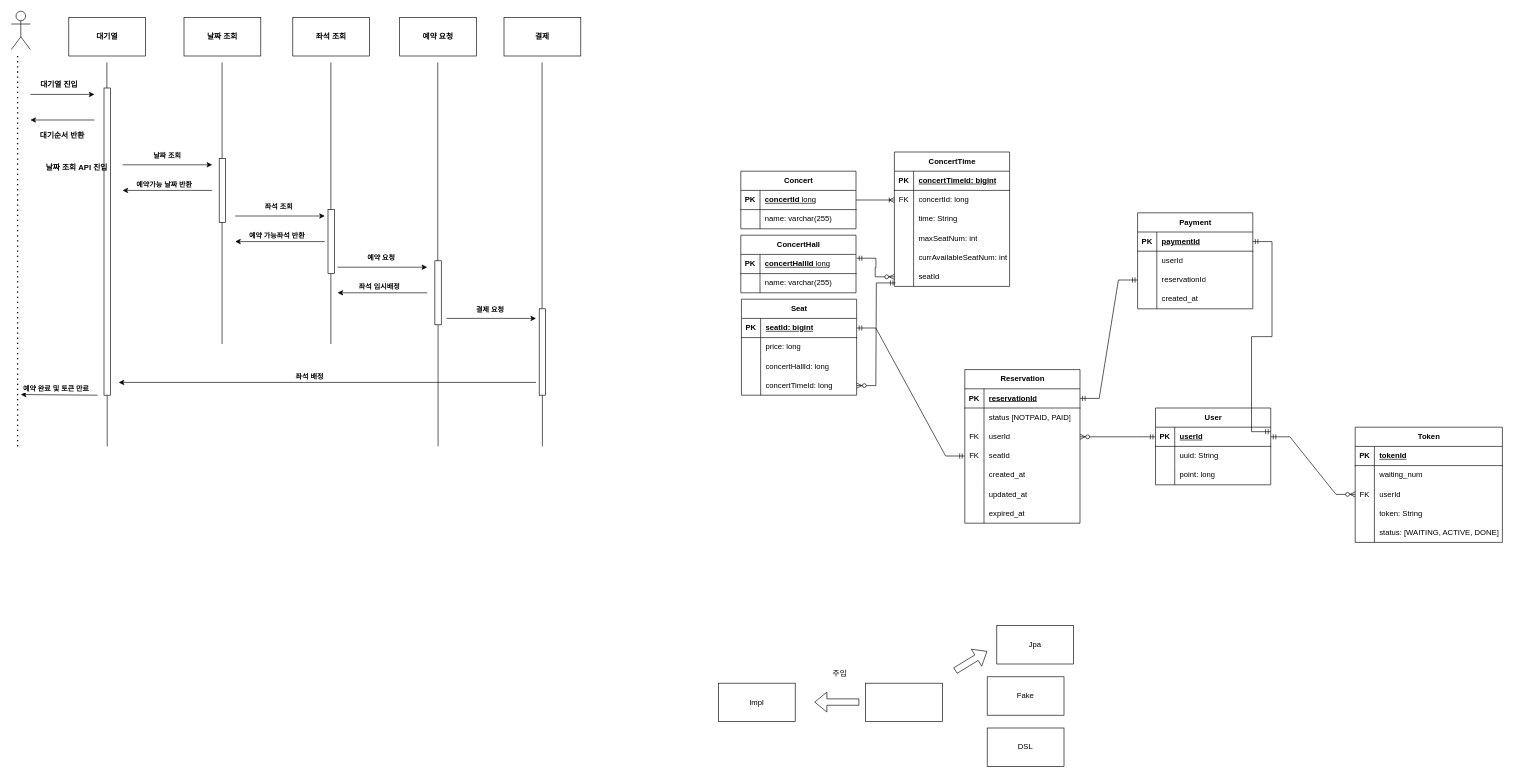
Image size: 1514x778. Some labels were removed from this diagram. The shapes that lost their labels are listed below. From the top down, each one's centre as x and y in pixels, then its label:
the point at 20,30: Actor
the point at 903,702: RepositoryInterface
